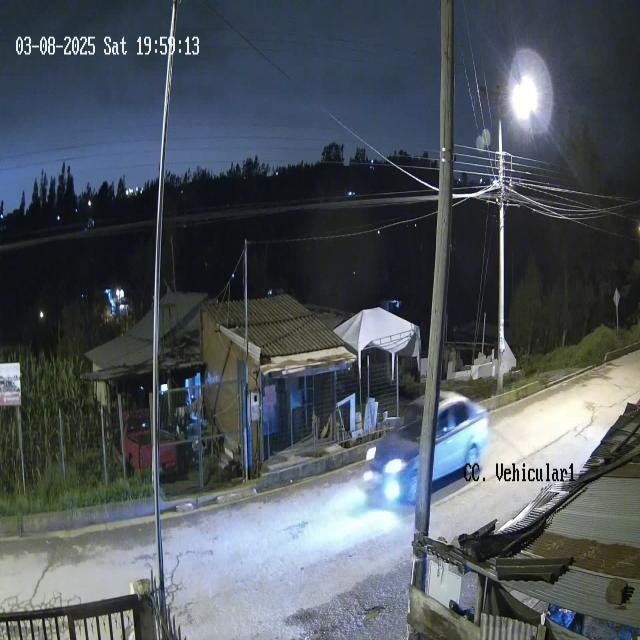SED: (361, 391, 492, 504)
